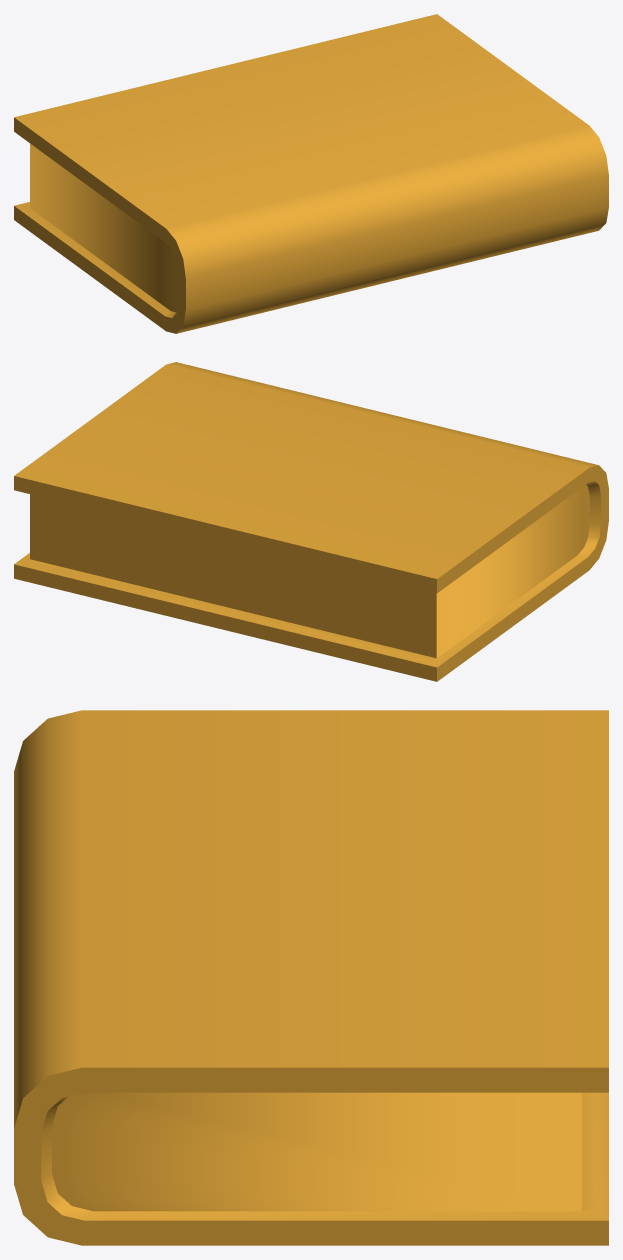
Rendered from libro.fbx.
3 views of the same model, one above another, from view 1: azimuth 30°, elevation 25°; view 2: azimuth 150°, elevation 25°; view 3: azimuth 270°, elevation 25° (orthographic). The views are drawn at different scales.
Visible parts, largest first — view 1: Cube; view 2: Cube; view 3: Cube.
Part boxes in pixels (box(x1,y1,x2,y2)): Cube: box(14, 14, 608, 333); Cube: box(14, 362, 608, 681); Cube: box(14, 710, 608, 1245).
Size of the model in its own units: 9.88 by 2.29 by 6.95.
